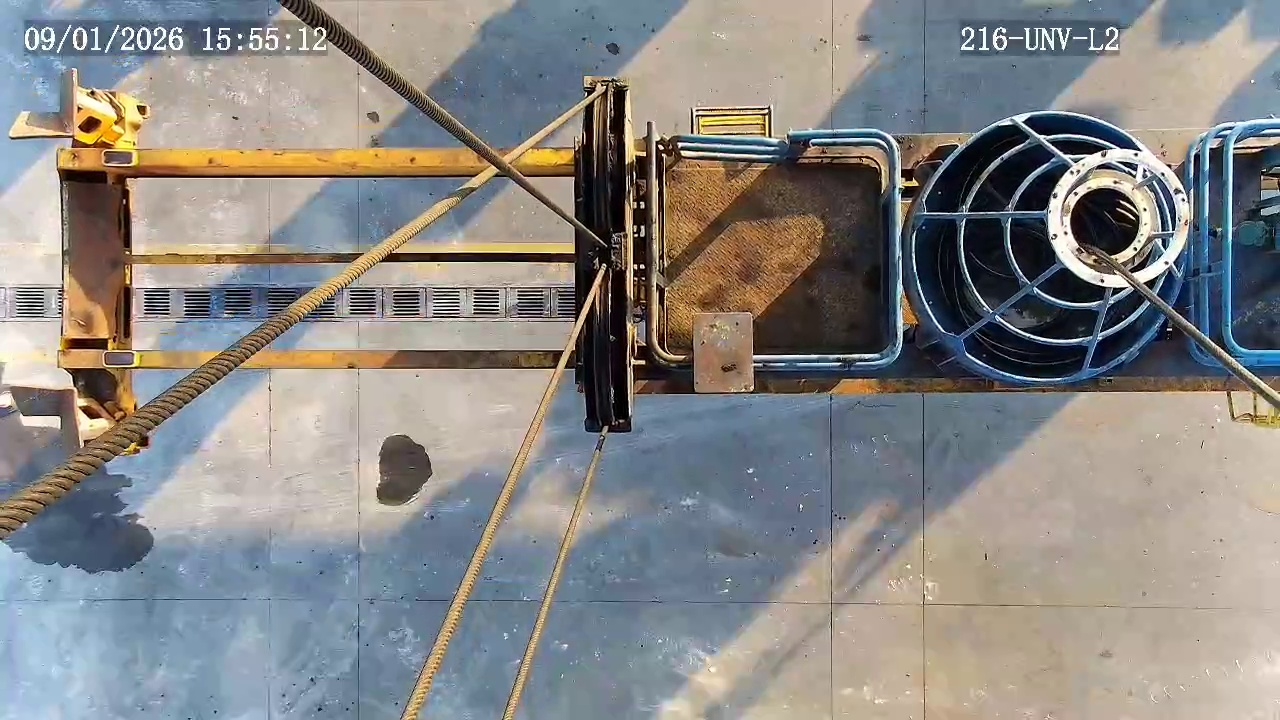left: (910, 111, 1187, 383)
